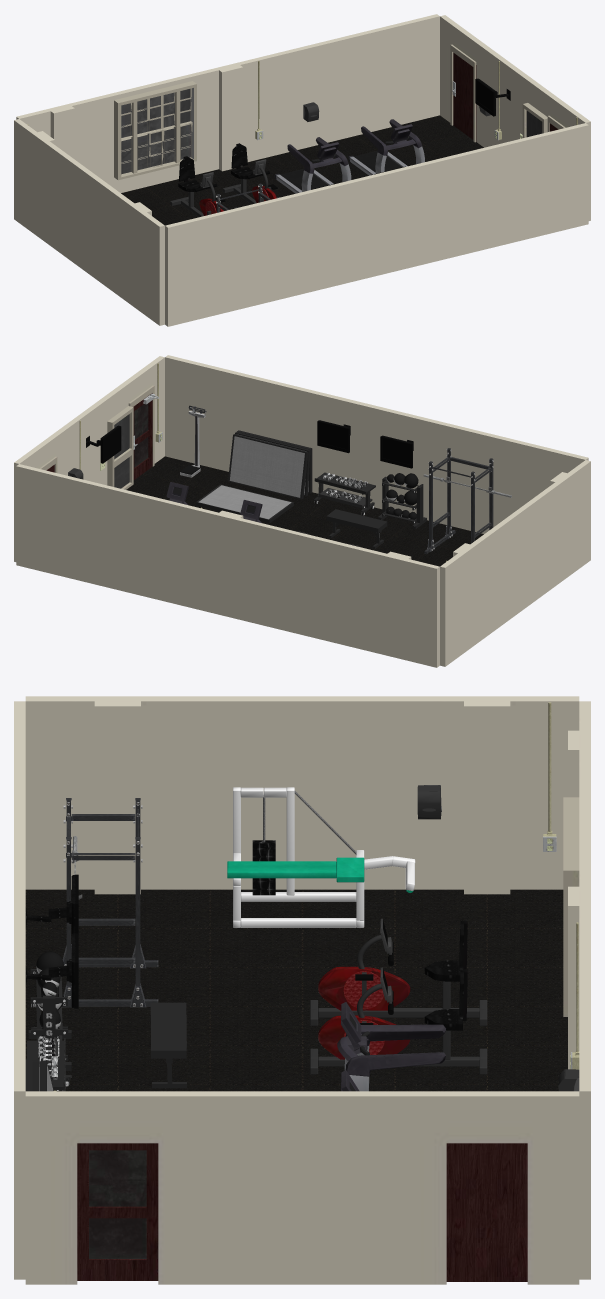
The model's file is gym-preview.glb.
The picture shows the model from 3 angles, top to bottom: view 1: azimuth 30°, elevation 25°; view 2: azimuth 150°, elevation 25°; view 3: azimuth 270°, elevation 25°; orthographic projection. The views are drawn at different scales.
Visible parts, largest first — view 1: Wallswall5, Wallswall6, Wallswall9, Wallswall7, Wallswall8, Wallswall11, Wallswall10, WallspillarWall2, WindowssquareWindow3, WallspillarWall4, WallspillarWall3, Wallswall2 (+24 smaller); view 2: WallspillarWall1, WallspillarWall2, Wallswall1, Wallswall11, Wallswall10, Wallswall9, Wallswall6, WallspillarWall3, Wallswall7, Wallswall8, WallspillarWall4, Wallswall2 (+31 smaller); view 3: Wallswall3, WallspillarWall4, WallspillarWall3, Wallswall2, polySurface1, polySurface12, doorDoors, Leg_Machine, Indoor_Bike1, polySurface9, Bolt15, Indoor_Bike (+50 smaller).
Part boxes in pixels (x1,y1,x2,y2): Wallswall5: [165, 205, 252, 326]; Wallswall6: [249, 184, 336, 306]; Wallswall9: [502, 123, 588, 244]; Wallswall7: [333, 164, 420, 285]; Wallswall8: [418, 143, 504, 265]; Wallswall11: [353, 14, 439, 135]; Wallswall10: [269, 34, 355, 156]; WallspillarWall2: [185, 55, 271, 174]; WindowssquareWindow3: [114, 81, 196, 180]; WallspillarWall4: [111, 190, 164, 325]; WallspillarWall3: [14, 119, 67, 254]; Wallswall2: [62, 154, 115, 289]; WallspillarWall1: [352, 546, 439, 667]; WallspillarWall2: [184, 505, 271, 626]; Wallswall1: [268, 525, 355, 647]; Wallswall11: [16, 464, 102, 585]; Wallswall10: [100, 484, 186, 606]; Wallswall9: [165, 355, 251, 471]; Wallswall6: [417, 416, 504, 533]; WallspillarWall3: [440, 531, 493, 666]; Wallswall7: [333, 396, 419, 513]; Wallswall8: [249, 375, 335, 493]; WallspillarWall4: [537, 460, 590, 595]; Wallswall2: [489, 495, 542, 630]; Wallswall3: [210, 1091, 394, 1284]; WallspillarWall4: [25, 696, 210, 894]; WallspillarWall3: [394, 696, 579, 894]; Wallswall2: [210, 696, 394, 889]; polySurface1: [25, 1091, 210, 1284]; polySurface12: [394, 1091, 579, 1284]; doorDoors: [446, 1143, 527, 1281]; Leg_Machine: [227, 787, 415, 927]; Indoor_Bike1: [310, 918, 487, 1025]; polySurface9: [77, 1143, 158, 1280]; Bolt15: [62, 798, 158, 1007]; Indoor_Bike: [310, 967, 487, 1074].
Bounding box in the file's own units: 41 × 9.01 × 25.
Materials: 18 (18 with a texture image).
